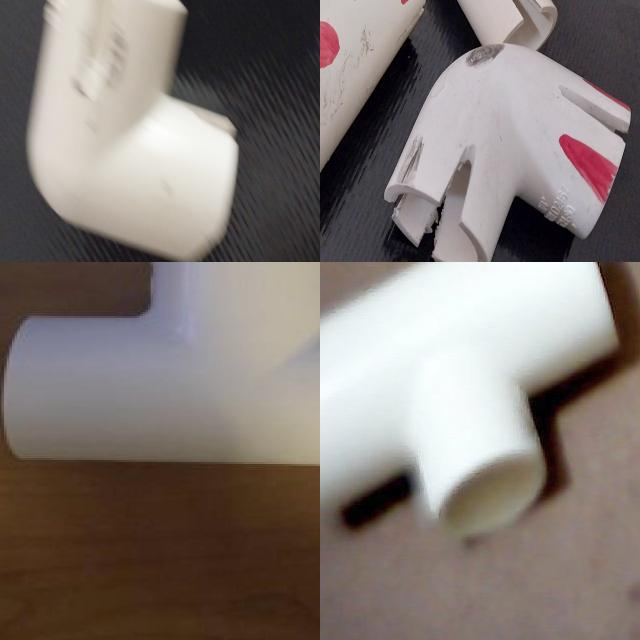Defective: (378, 34, 412, 106), (349, 218, 404, 262), (390, 213, 416, 255), (377, 99, 401, 125), (328, 0, 363, 16), (470, 165, 489, 188), (430, 211, 444, 235), (435, 249, 452, 262)
L Joint: (41, 0, 287, 245)
T Joint: (320, 262, 621, 539), (0, 262, 320, 468), (339, 110, 492, 262), (320, 0, 429, 147)
